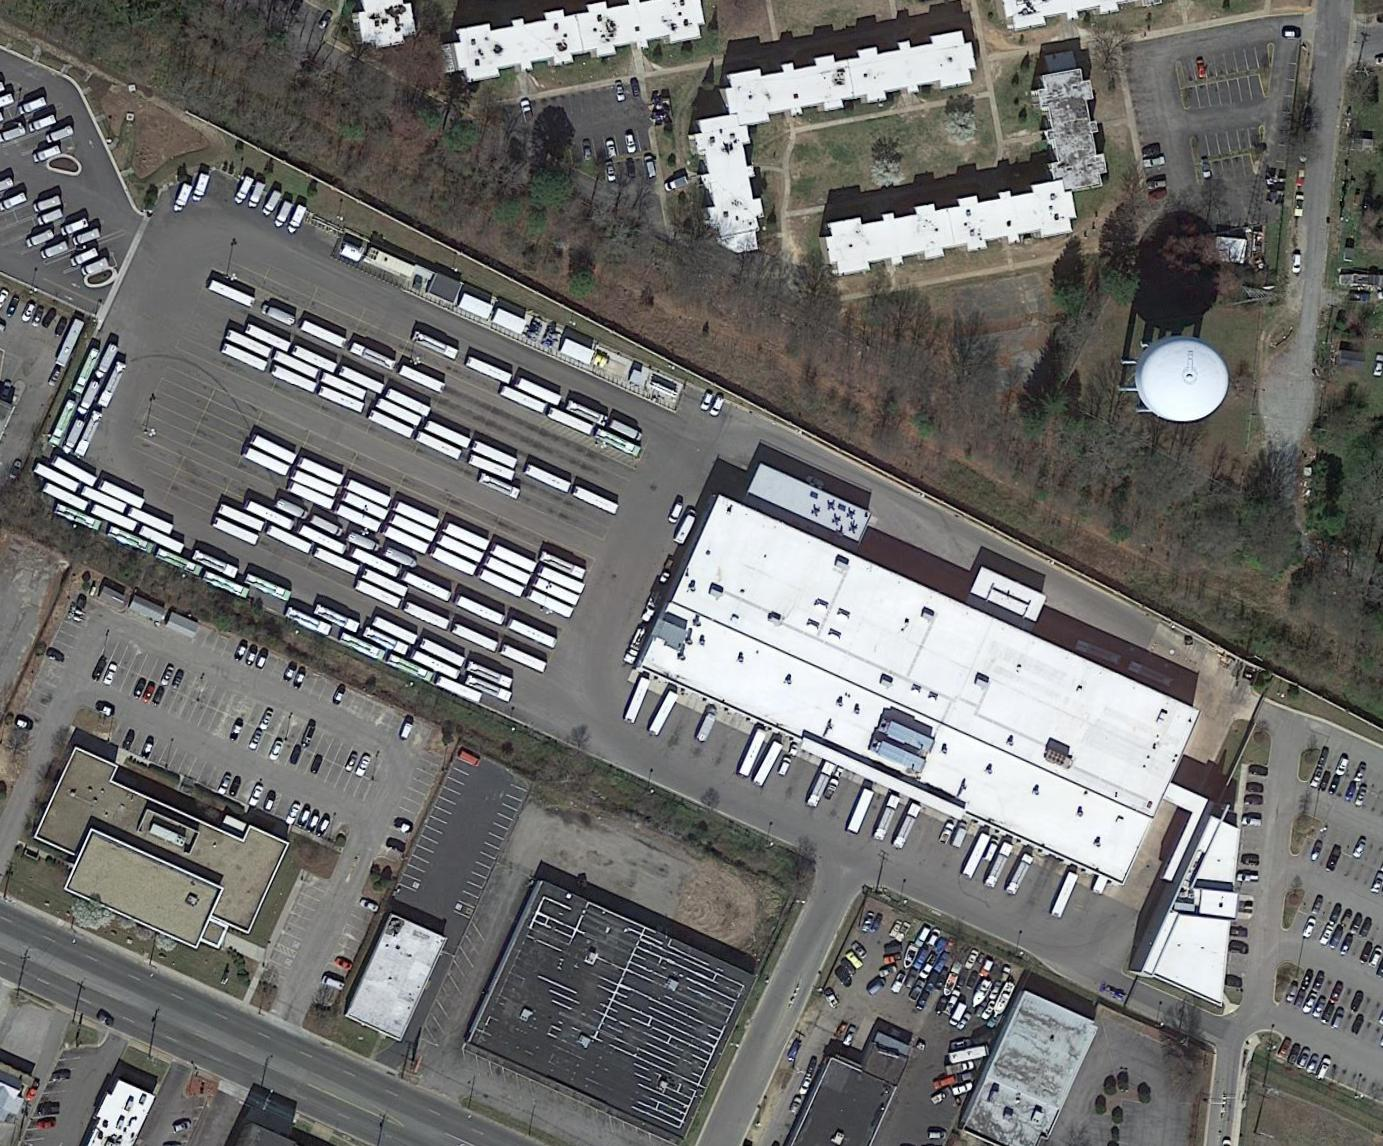ship: (991, 976, 1017, 1021), (967, 977, 996, 1011), (902, 940, 921, 969)
